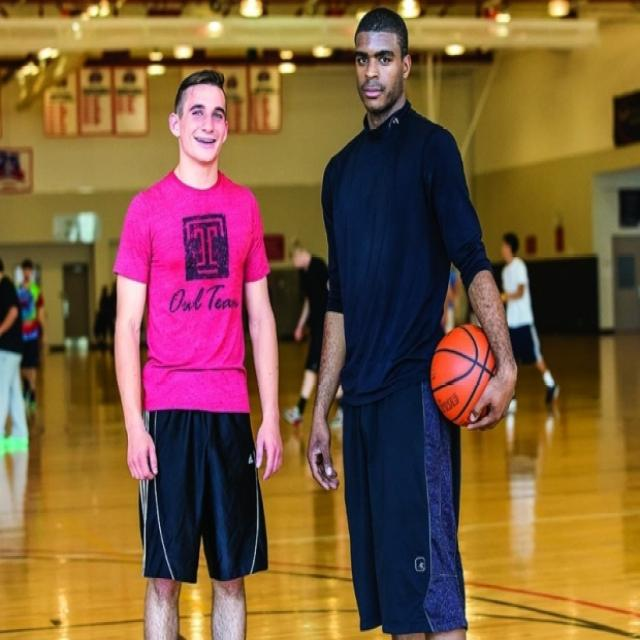body: (305, 0, 520, 639), (109, 62, 287, 639), (282, 235, 347, 432), (499, 231, 562, 416), (0, 258, 30, 454), (13, 256, 46, 423), (86, 271, 115, 359), (442, 267, 461, 333)
